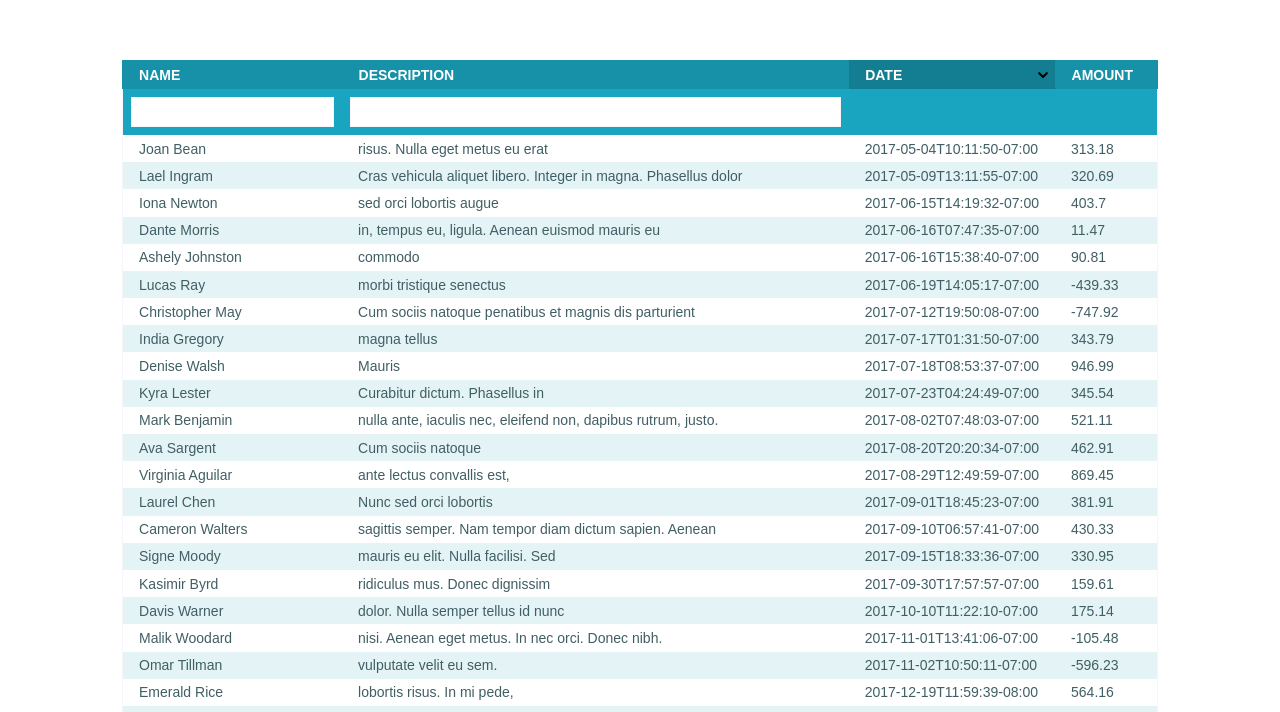
Test: Tests sortability › Sorts table by Date in descending order when user clicks on the Date column header again
Step 1. Click the column heading "Date" → (952,75), box [849, 61, 1055, 89]
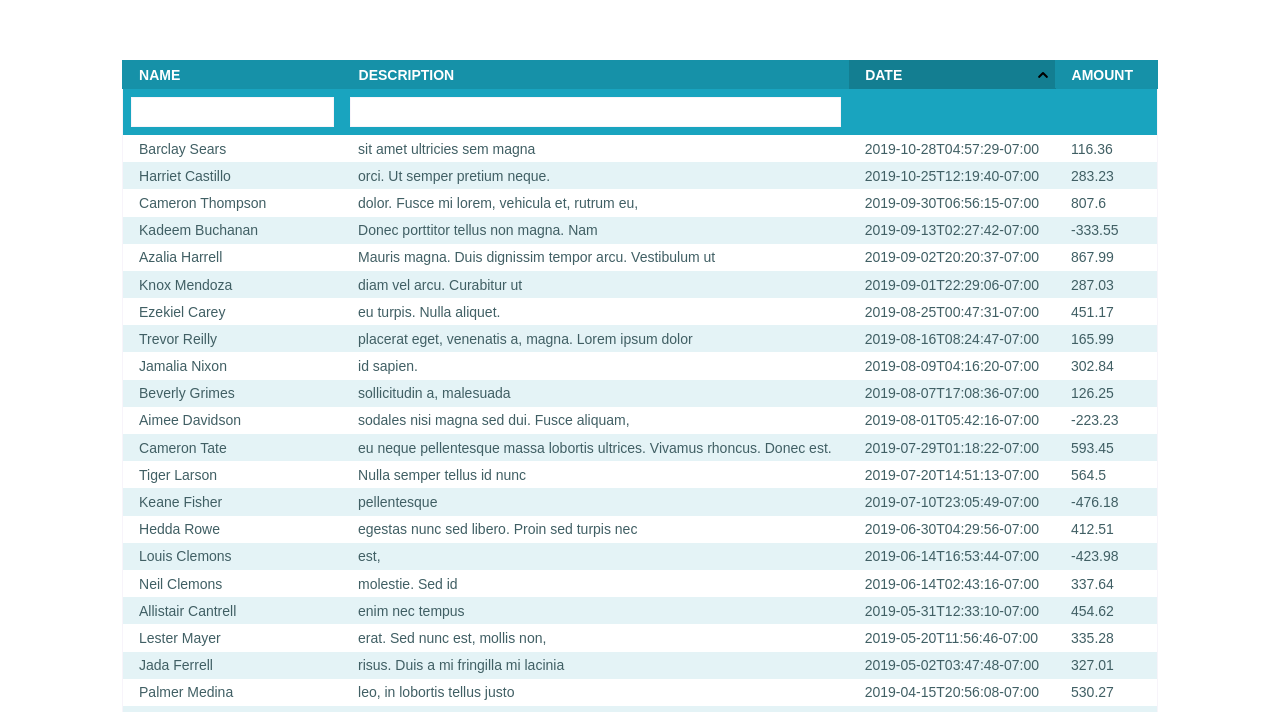
Check: the text "2019-10-28T04:57:29-07:00" is shown, box [865, 141, 1039, 157]
